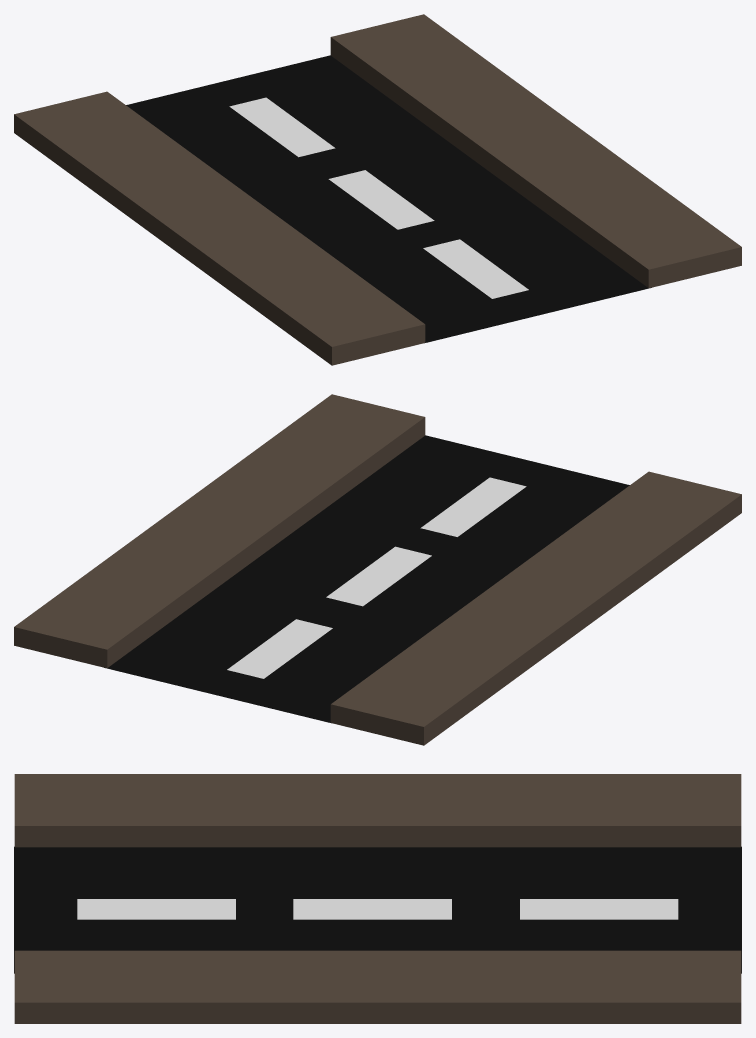
File: ruaReta.fbx
3 views of the same model, one above another, from view 1: azimuth 30°, elevation 25°; view 2: azimuth 150°, elevation 25°; view 3: azimuth 270°, elevation 25° (orthographic). The views are drawn at different scales.
Visible parts, largest first — view 1: Rua Reta; view 2: Rua Reta; view 3: Rua Reta.
Part boxes in pixels (x1=…): Rua Reta: x1=14, y1=14, x2=741, y2=365; Rua Reta: x1=14, y1=394, x2=741, y2=745; Rua Reta: x1=14, y1=774, x2=741, y2=1023.
Size of the model in its own units: 361 by 15.74 by 486.
